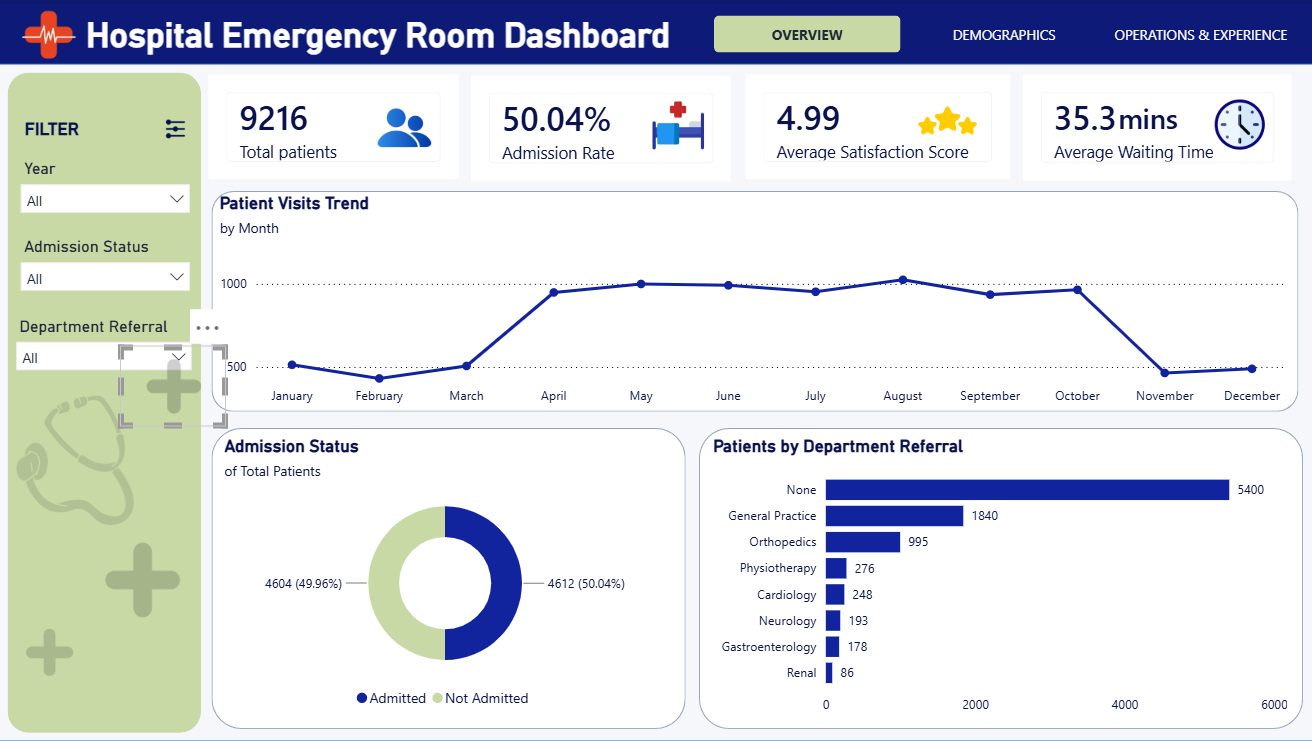

The page's visual inventory and layout, read from the dashboard file:
{"tool":"powerbi","page":{"name":"OVERVIEW","canvas":[1280,720],"ordinal":0},"visuals":[{"type":"shape","box":[1.6,0,1279.2,720.6],"z":0},{"type":"shape","box":[10.4,71,187.9,640.8],"z":1000},{"type":"shape","box":[680.7,416,586.2,292],"z":2000},{"type":"shape","box":[0,0,1280.3,63.6],"z":3000},{"type":"cardVisual","fields":{"Data":["Hospital ER_Data.Total patients"]},"box":[205.6,72.9,242.9,102],"z":4000},{"type":"cardVisual","fields":{"Data":["Hospital ER_Data.Average Waiting Time"]},"box":[995.8,72.9,260.7,103.6],"z":5000},{"type":"image","box":[119,336.1,104.4,79.3],"z":6000},{"type":"shape","box":[208,416,460.1,292],"z":7000},{"type":"cardVisual","fields":{"Data":["Hospital ER_Data.Average Satisfaction Score"]},"box":[726.4,73.1,256.7,102.3],"z":8000},{"type":"shape","box":[208,187,1054.7,214.3],"z":9000},{"type":"lineChart","title":"Patient Visits Trend","fields":{"Y":["Hospital ER_Data.Total patients"],"Category":["Hospital ER_Data.Month Name"]},"box":[211.5,187.5,1045.3,215.4],"z":10000},{"type":"donutChart","title":"Admission Status","fields":{"Category":["Hospital ER_Data.Patient Admission Flag"],"Y":["Hospital ER_Data.Total patients"]},"box":[216.1,424.3,438.1,273.6],"z":11000},{"type":"clusteredBarChart","title":"Patients by Department Referral","fields":{"Category":["Hospital ER_Data.Department Referral"],"Y":["Hospital ER_Data.Total patients"]},"box":[689.9,424.3,567,279.5],"z":12000},{"type":"slicer","title":"Year","fields":{"Values":["Hospital ER_Data.Year"]},"box":[12.5,150.3,183.7,66.8],"z":13000},{"type":"slicer","title":"Admission Status","fields":{"Values":["Hospital ER_Data.Patient Admission Flag"]},"box":[12.5,225.4,183.7,66.8],"z":14000},{"type":"slicer","title":"Department Referral","fields":{"Values":["Hospital ER_Data.Department Referral"]},"box":[8.3,302.7,189.9,66.8],"z":15000},{"type":"pageNavigator","box":[696,15.5,565.4,36.1],"z":16000},{"type":"image","box":[12.5,369.5,125.2,156.6],"z":17000},{"type":"image","box":[0,599.1,102.3,68.9],"z":18000},{"type":"image","box":[75.1,509.3,131.5,108.5],"z":19000},{"type":"cardVisual","fields":{"Data":["Hospital ER_Data.Admission Rate"]},"box":[460.1,73.5,252.1,103],"z":20000},{"type":"textbox","box":[21.8,111,148.7,39.6],"z":21000},{"type":"image","box":[21,8.1,59.9,51.8],"z":22000},{"type":"textbox","box":[81.7,10,615,51.7],"z":23000},{"type":"image","box":[159.7,116.1,25.8,19.4],"z":24000},{"type":"image","box":[365.9,98.8,59.9,51.8],"z":25000},{"type":"image","box":[636.4,92.3,50.2,61.5],"z":26000},{"type":"image","box":[1170.7,97.2,71.2,48.6],"z":27000},{"type":"textbox","box":[1083.3,92.3,72.9,47],"z":28000},{"type":"image","box":[861.4,89.1,121.4,58.3],"z":29000}]}

Visuals, with their boxes in screenshot pixels (x1, y1, x2, y2), scaled from the page's 1280x720 canvas onto the 1312x741 screenshot:
shape: crop(2, 0, 1311, 740)
shape: crop(11, 73, 203, 733)
shape: crop(698, 428, 1299, 729)
shape: crop(0, 0, 1311, 65)
cardVisual - Hospital ER_Data.Total patients: crop(211, 75, 460, 180)
cardVisual - Hospital ER_Data.Average Waiting Time: crop(1021, 75, 1288, 182)
image: crop(122, 346, 229, 428)
shape: crop(213, 428, 685, 729)
cardVisual - Hospital ER_Data.Average Satisfaction Score: crop(745, 75, 1008, 181)
shape: crop(213, 192, 1294, 413)
"Patient Visits Trend" lineChart: crop(217, 193, 1288, 415)
"Admission Status" donutChart: crop(222, 437, 671, 718)
"Patients by Department Referral" clusteredBarChart: crop(707, 437, 1288, 724)
"Year" slicer: crop(13, 155, 201, 223)
"Admission Status" slicer: crop(13, 232, 201, 301)
"Department Referral" slicer: crop(9, 312, 203, 380)
pageNavigator: crop(713, 16, 1293, 53)
image: crop(13, 380, 141, 541)
image: crop(0, 617, 105, 687)
image: crop(77, 524, 212, 636)
cardVisual - Hospital ER_Data.Admission Rate: crop(472, 76, 730, 182)
textbox: crop(22, 114, 175, 155)
image: crop(22, 8, 83, 62)
textbox: crop(84, 10, 714, 63)
image: crop(164, 119, 190, 139)
image: crop(375, 102, 436, 155)
image: crop(652, 95, 704, 158)
image: crop(1200, 100, 1273, 150)
textbox: crop(1110, 95, 1185, 143)
image: crop(883, 92, 1007, 152)
